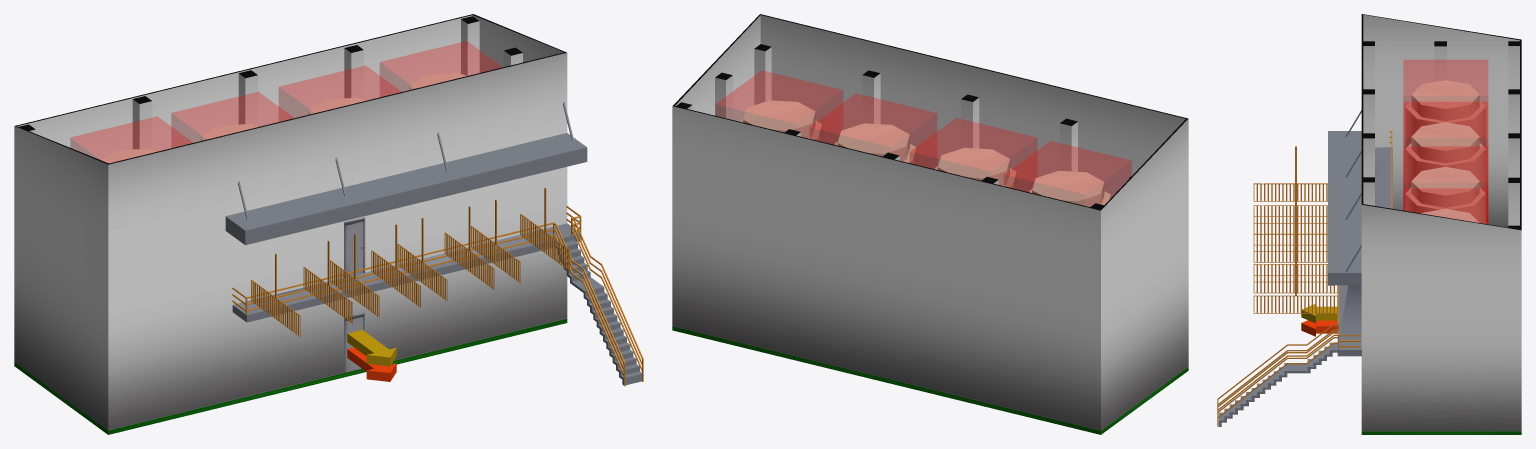
Rendered from soulbrain_T3-6-1F.glb.
The picture shows the model from 3 angles, left to right: view 1: azimuth 30°, elevation 25°; view 2: azimuth 150°, elevation 25°; view 3: azimuth 270°, elevation 25°; orthographic projection. The views are drawn at different scales.
Parts seen in each view (by area): view 1: Rectangle001, Rectangle003, Box003 (1), Line022 (1), Box011, Railing001, equipment-T3-6-1F-002, equipment-T3-6-1F-004, equipment-T3-6-1F-003, equipment-T3-6-1F-001, StraightStair001, Rectangle004 (+4 smaller); view 2: Rectangle001, Cylinder240, equipment-T3-6-1F-003, equipment-T3-6-1F-004, equipment-T3-6-1F-002, equipment-T3-6-1F-001, Box011, Rectangle004; view 3: Rectangle001, Cylinder240, Box003 (1), equipment-T3-6-1F-002, equipment-T3-6-1F-001, equipment-T3-6-1F-003, Rectangle003, Box011, equipment-T3-6-1F-004, Railing001, Line022 (1), StraightStair001 (+4 smaller).
Boxes of the visible parts, x1,y1,x2,y2 form: Rectangle001: [14, 14, 567, 430]; Rectangle003: [225, 133, 587, 245]; Box003 (1): [251, 188, 569, 336]; Line022 (1): [232, 223, 581, 322]; Box011: [19, 16, 522, 149]; Railing001: [232, 206, 643, 386]; equipment-T3-6-1F-002: [171, 92, 293, 147]; equipment-T3-6-1F-004: [380, 41, 502, 96]; equipment-T3-6-1F-003: [279, 66, 400, 121]; equipment-T3-6-1F-001: [70, 116, 192, 162]; StraightStair001: [556, 240, 641, 385]; Rectangle004: [14, 318, 567, 434]; Rectangle001: [672, 14, 1188, 430]; Cylinder240: [740, 100, 1110, 206]; equipment-T3-6-1F-003: [810, 93, 936, 168]; equipment-T3-6-1F-004: [715, 70, 842, 144]; equipment-T3-6-1F-002: [910, 118, 1037, 191]; equipment-T3-6-1F-001: [1004, 141, 1131, 206]; Box011: [676, 44, 1131, 209]; Rectangle004: [672, 326, 1188, 434]; Rectangle001: [1361, 14, 1521, 431]; Cylinder240: [1405, 80, 1485, 223]; Box003 (1): [1253, 146, 1337, 313]; equipment-T3-6-1F-002: [1403, 102, 1487, 188]; equipment-T3-6-1F-001: [1403, 60, 1487, 146]; equipment-T3-6-1F-003: [1403, 146, 1487, 223]; Rectangle003: [1328, 131, 1361, 285]; Box011: [1363, 41, 1519, 229]; equipment-T3-6-1F-004: [1403, 188, 1487, 223]; Railing001: [1217, 131, 1392, 426]; Line022 (1): [1337, 285, 1361, 356]; StraightStair001: [1218, 342, 1337, 426].
Size of the model in its own units: 21.62 by 12.16 by 14.58.
Materials: 12 (8 with a texture image).
